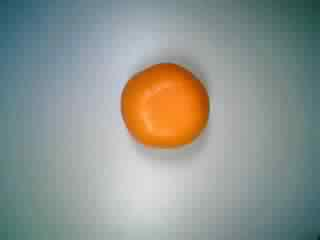orange: (117, 59, 212, 153)
